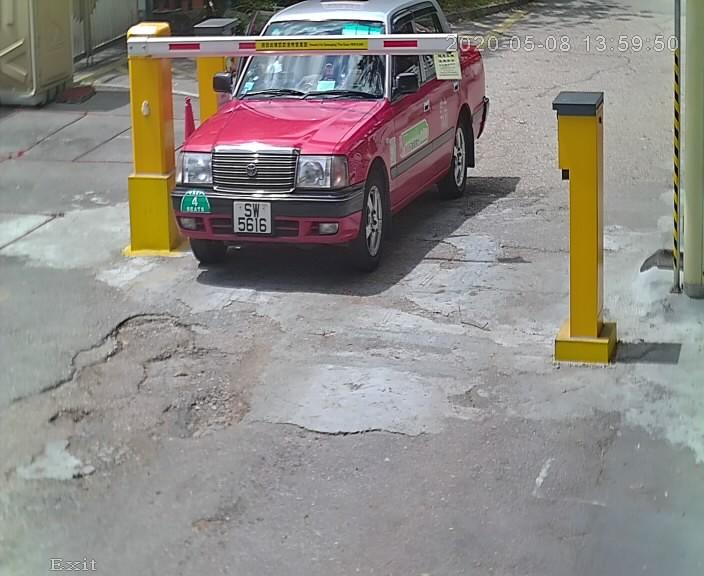Car: (166, 1, 500, 298)
License Plate: (227, 191, 277, 239)
